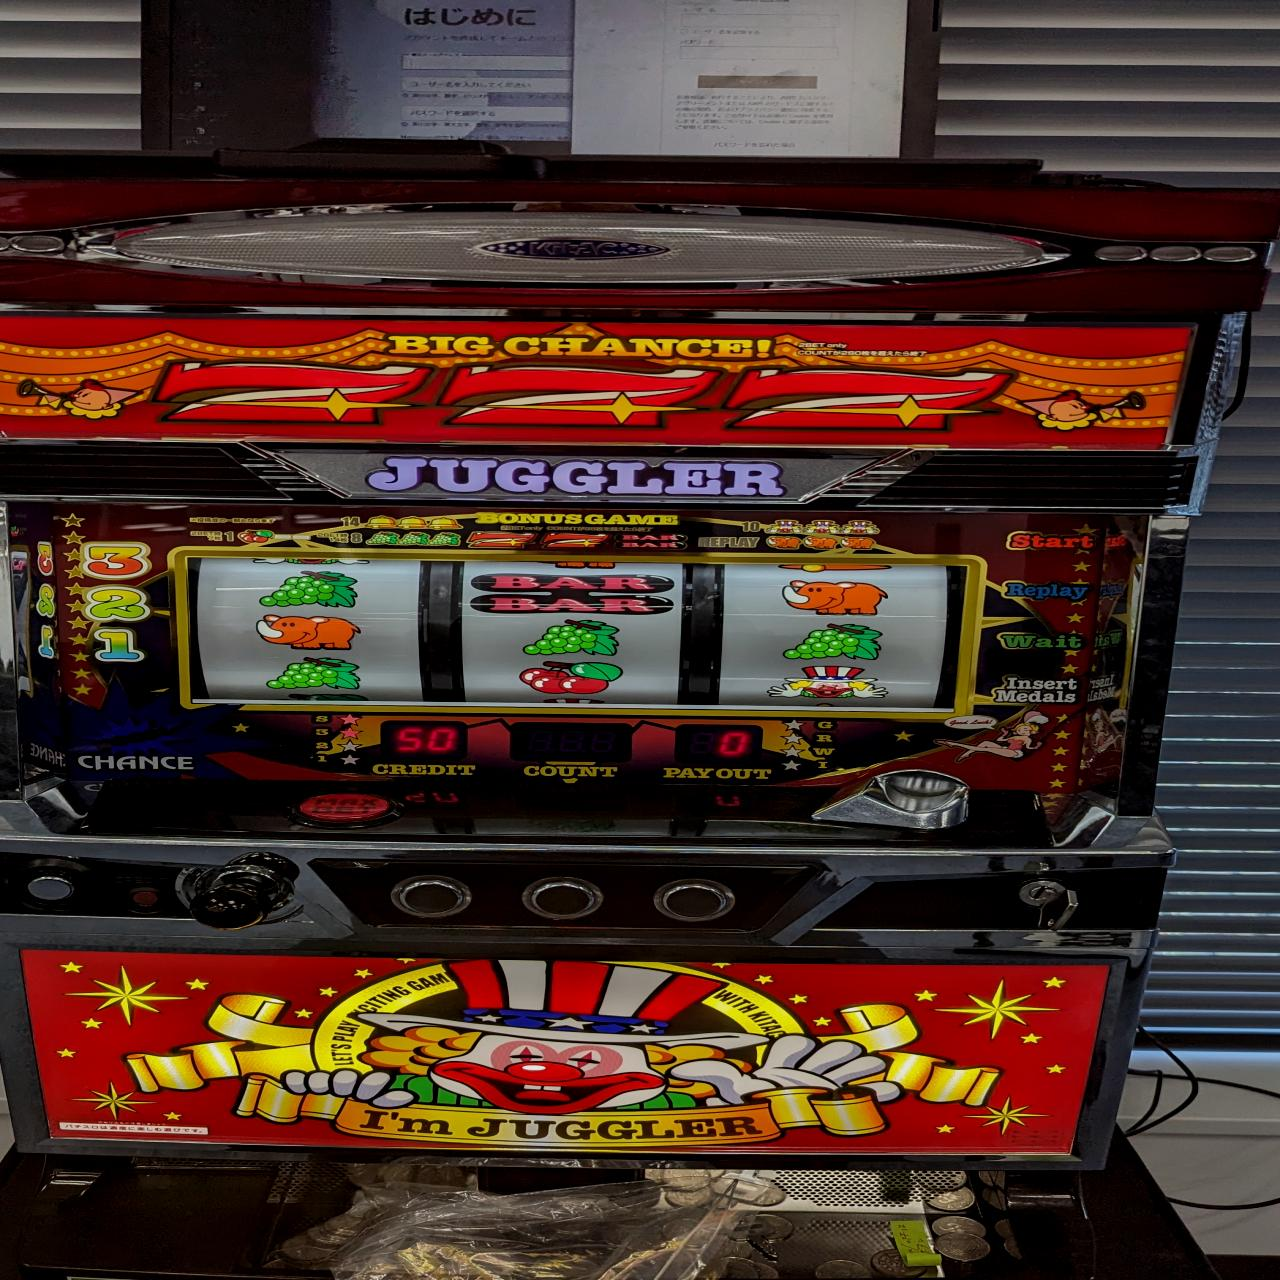Display: (175, 546, 982, 710)
bar: (464, 568, 681, 618)
cherry: (511, 658, 626, 697)
clown: (765, 661, 891, 703)
grape: (518, 615, 627, 659), (248, 568, 361, 610), (775, 620, 887, 661), (260, 655, 368, 695)
rhino: (246, 612, 370, 653), (779, 574, 893, 618)
